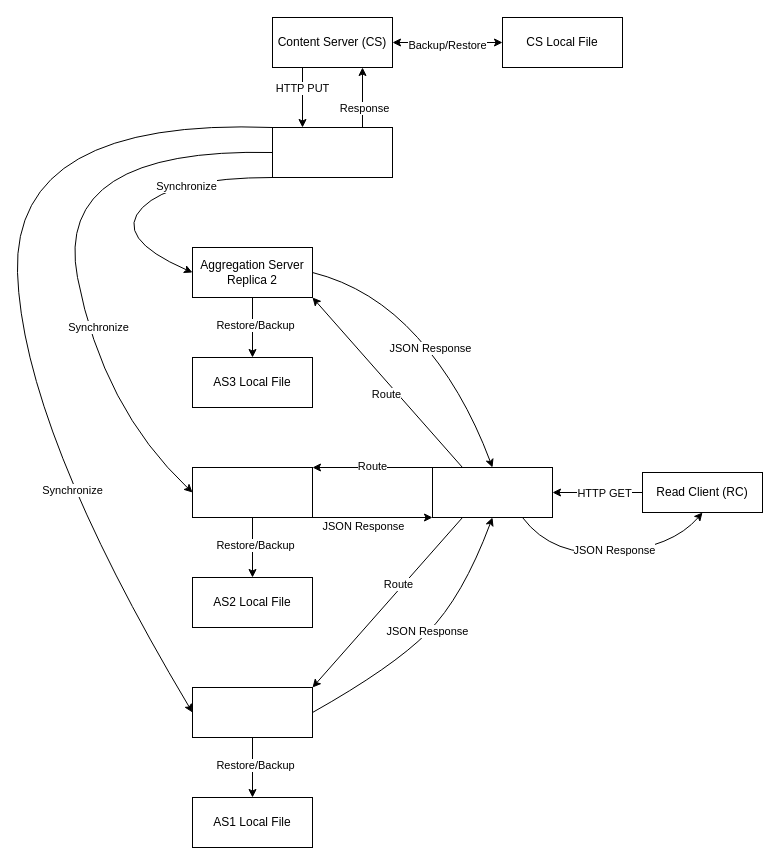
The diagram is 781 pixels wide and 865 high, and some of its shapes have lost their labels. Each missing label, with the box of its shape:
Aggregation Server Primary: (192, 686, 312, 738)
Aggregation Server Replica 1: (192, 466, 312, 518)
Cluster Manager: (272, 126, 392, 178)
Load Balancer: (432, 466, 552, 518)
